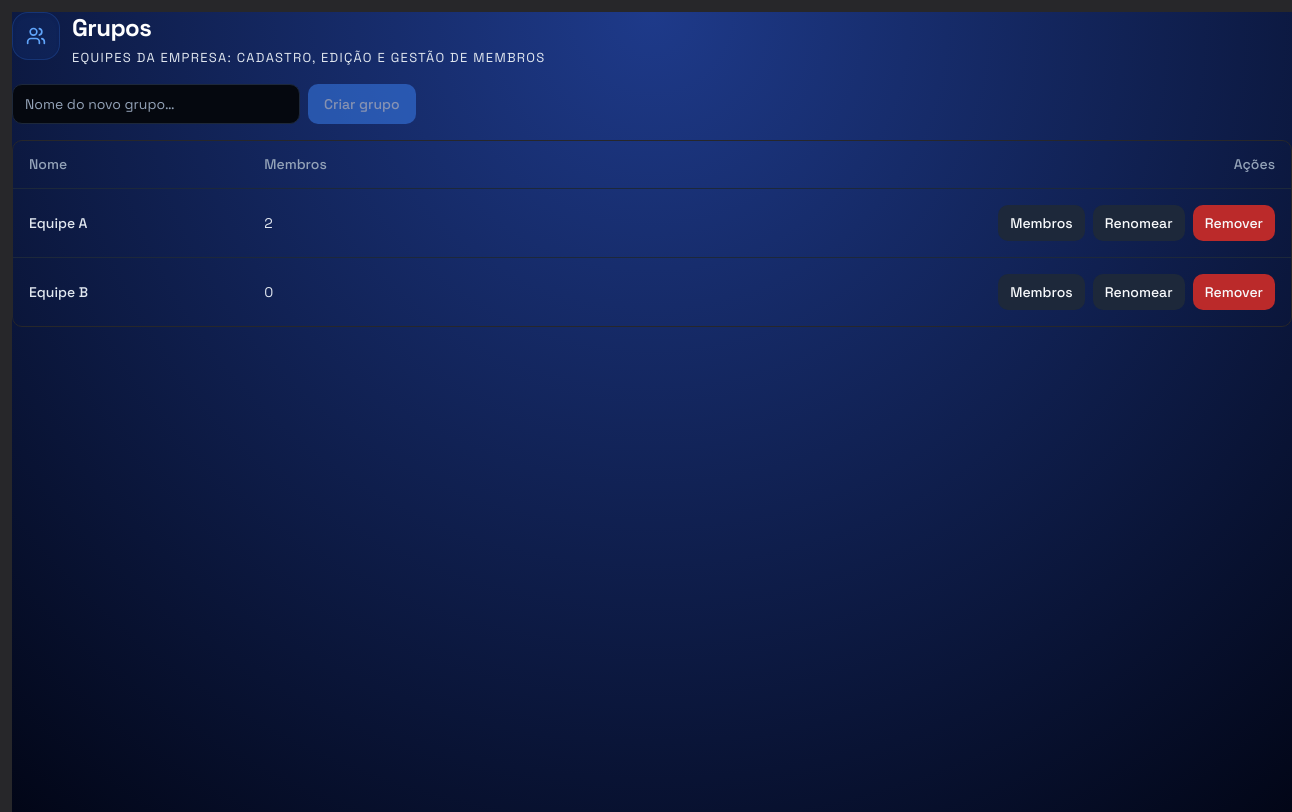
Test: GroupsPage (task_08) › abrir membros carrega e exibe a lista do grupo
Expected: the text "Equipe A" is shown, [13, 188, 248, 258]
Click the button "Membros" in the row of "Equipe A": (1041, 223) [998, 205, 1085, 241]
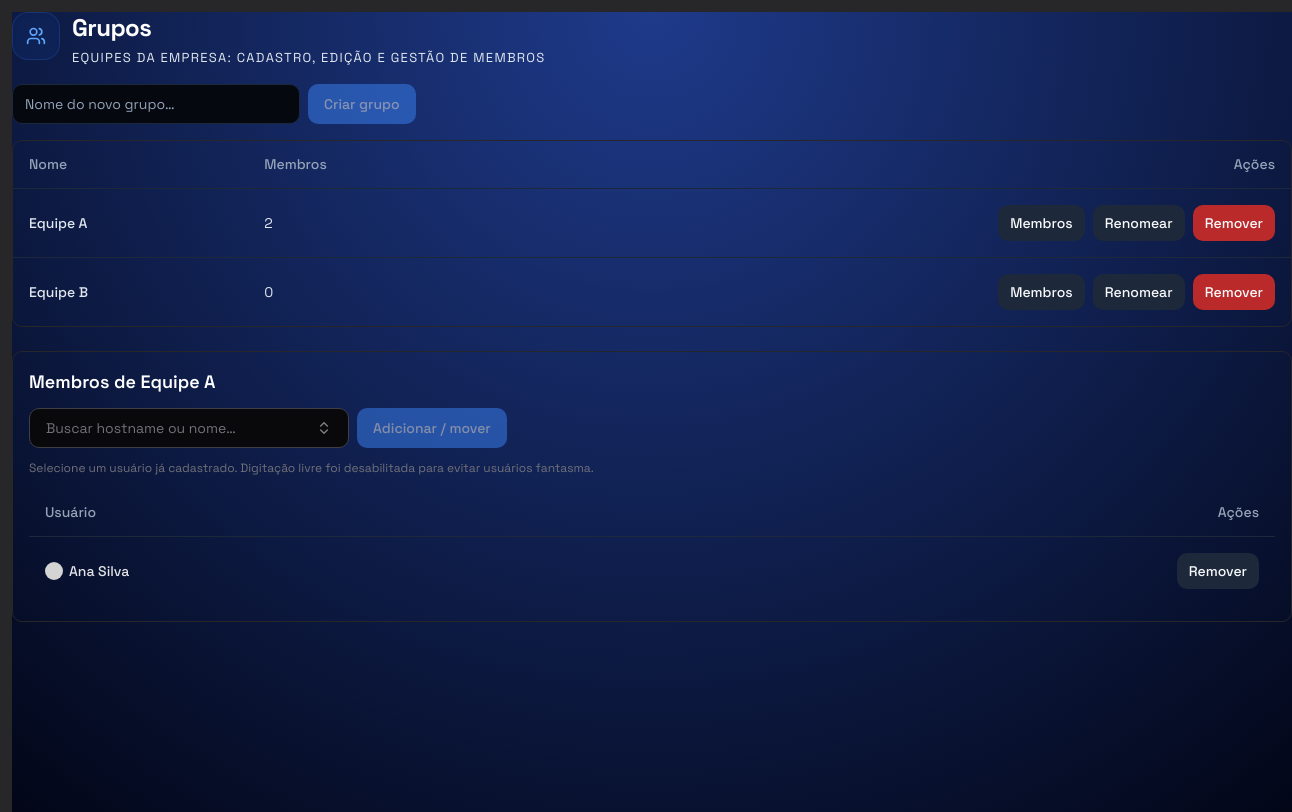
Expected: the text "Ana Silva" is shown, [69, 560, 129, 580]
Expected: the dropdown labelled "Buscar hostname ou nome…" is shown, [29, 408, 349, 448]
